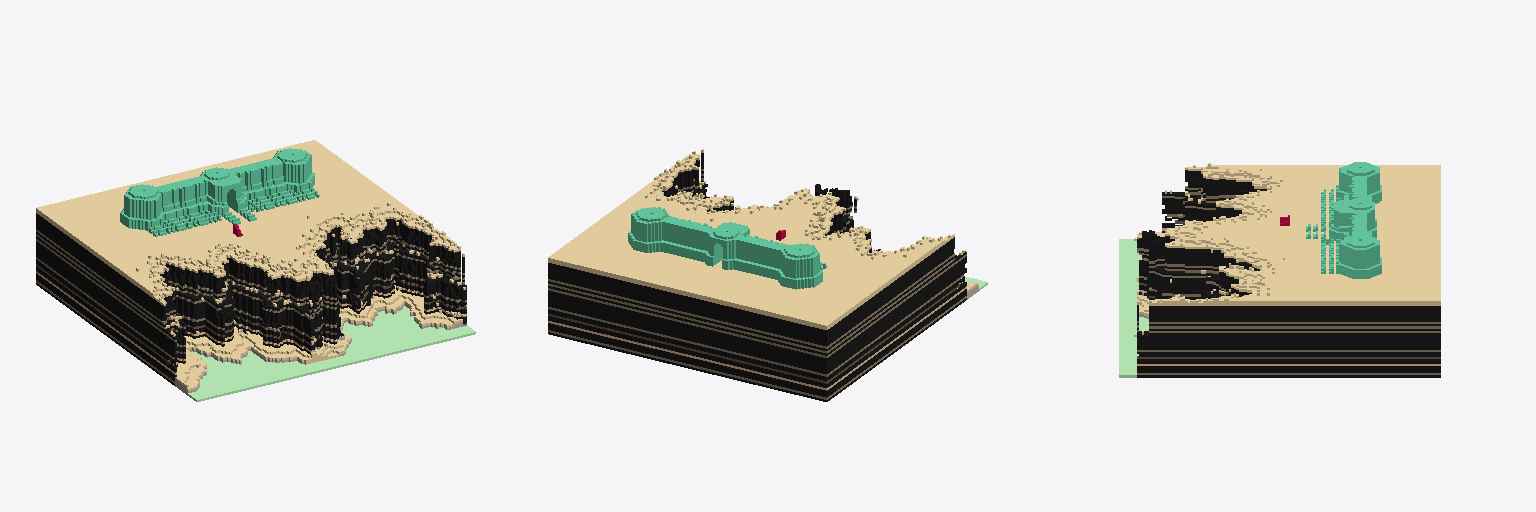
3 views of the same model, side by side, from view 1: azimuth 30°, elevation 25°; view 2: azimuth 150°, elevation 25°; view 3: azimuth 270°, elevation 25° (orthographic).
Parts seen in each view (by area): view 1: crystal-castle-color; view 2: crystal-castle-color; view 3: crystal-castle-color.
Part boxes in pixels (x1,y1,x2,y2): crystal-castle-color: (36,140,475,401); crystal-castle-color: (548,149,987,401); crystal-castle-color: (1119,162,1440,377).
Size of the model in its own units: 126 by 46 by 126.
Materials: 1 (1 with a texture image).